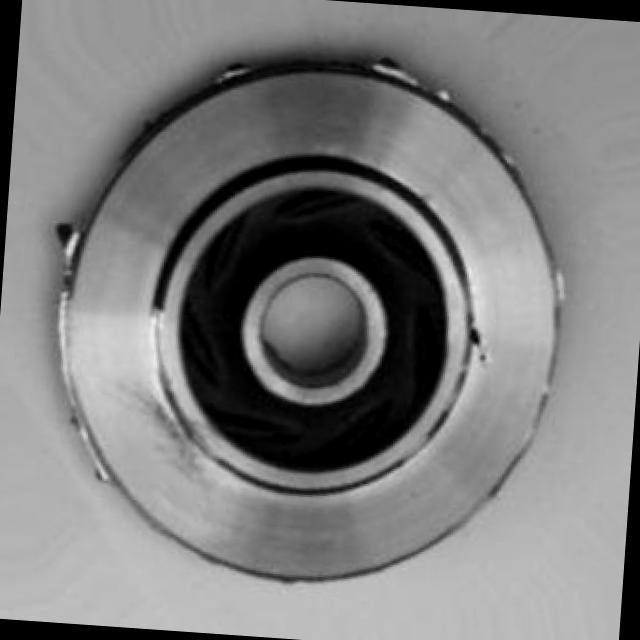Defect: (42, 215, 87, 256)
